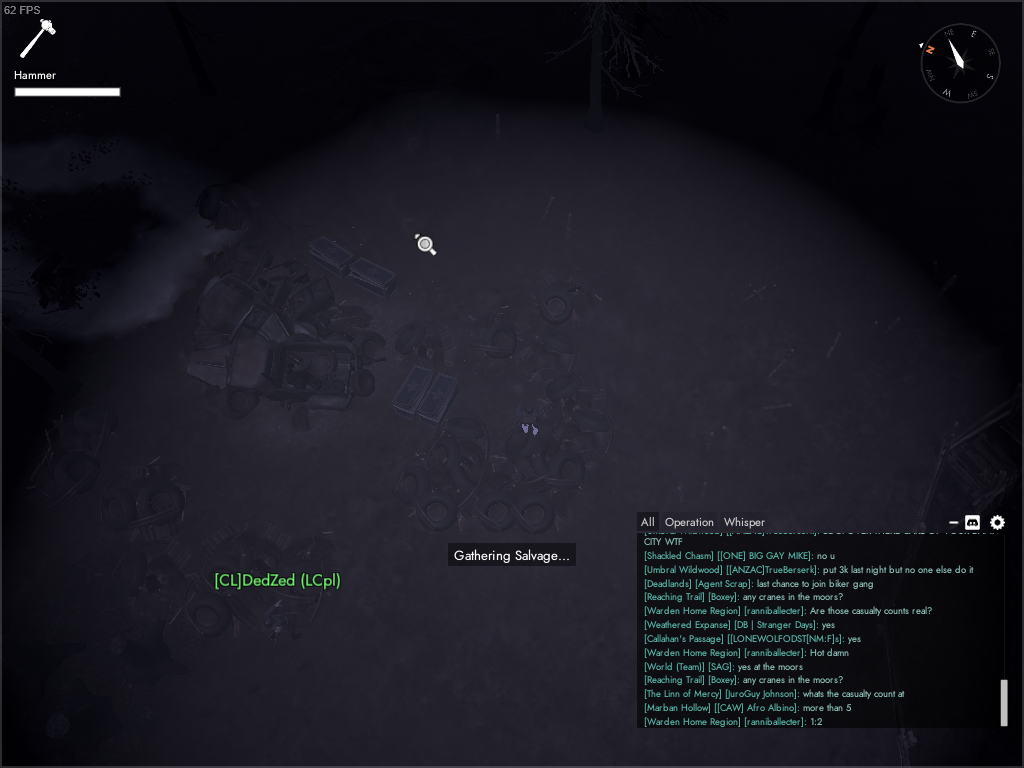player: (262, 598, 288, 646), (515, 401, 544, 436)
scrap: (172, 522, 334, 641), (478, 428, 587, 537), (395, 414, 489, 532), (32, 402, 115, 503), (98, 454, 189, 544), (109, 538, 195, 610), (546, 372, 616, 456), (193, 182, 263, 232), (391, 319, 458, 371), (519, 330, 581, 386), (466, 305, 525, 360), (539, 275, 602, 325)
scrapyard: (187, 232, 390, 422)
storage_box: (391, 363, 434, 418), (348, 257, 400, 300), (417, 373, 458, 427), (307, 235, 354, 277)
